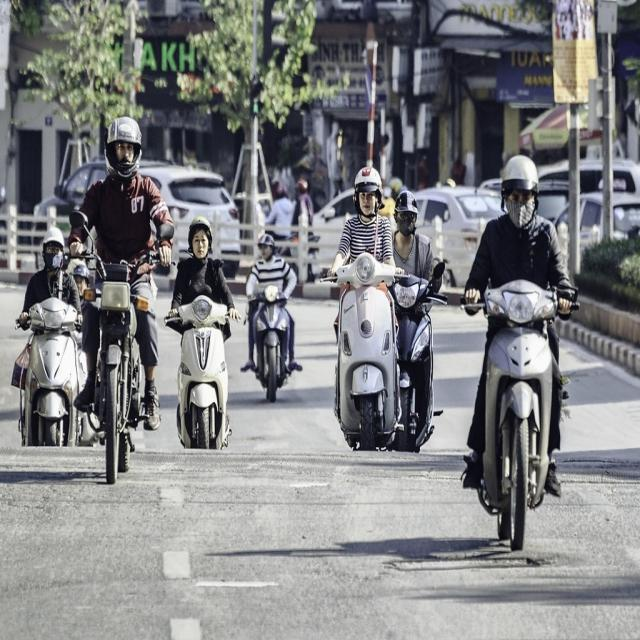motorcycle: (461, 259, 578, 551), (326, 258, 441, 460), (74, 239, 160, 484), (8, 292, 94, 455), (170, 287, 236, 458), (240, 260, 306, 406)
